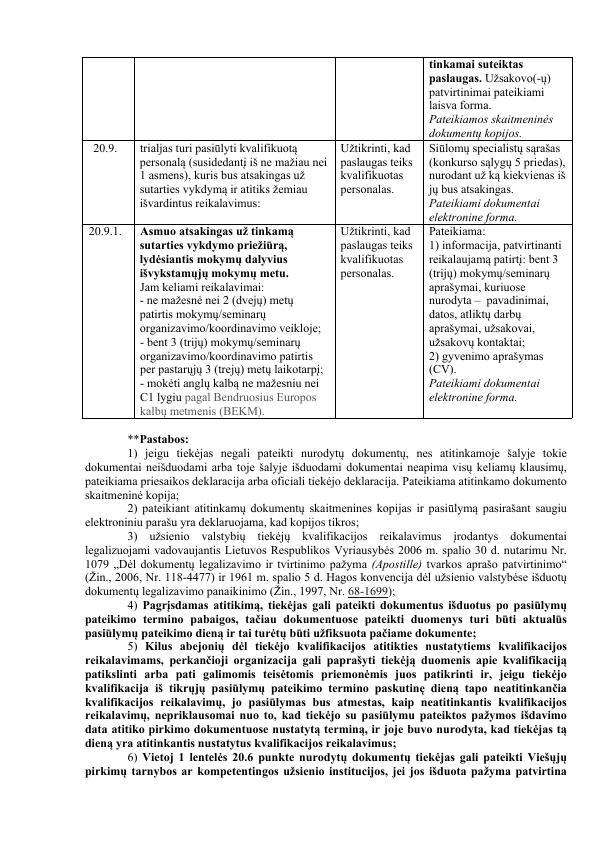table: (79, 54, 575, 421)
text: (81, 431, 571, 783)
